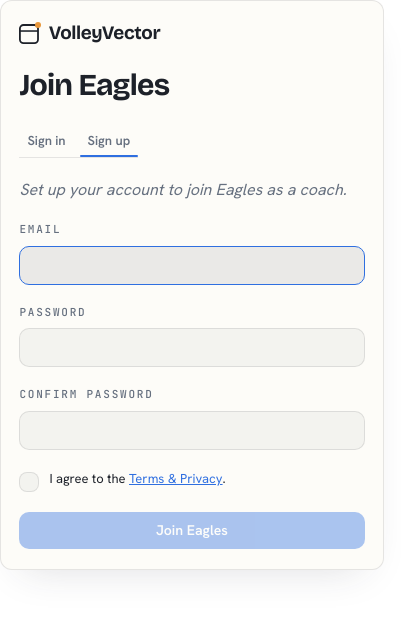
Test: InviteAccept, account-creation password validation › a mismatched confirmation is blocked client-side
Type "new@eagles.test" into the field labelled "Email" at (192, 265), box [19, 246, 365, 285]
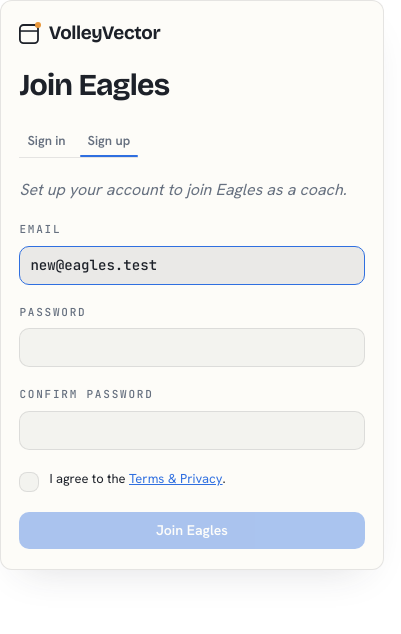
Type "longenough1" into the password field labelled "Password" at (192, 348), box [19, 328, 365, 367]
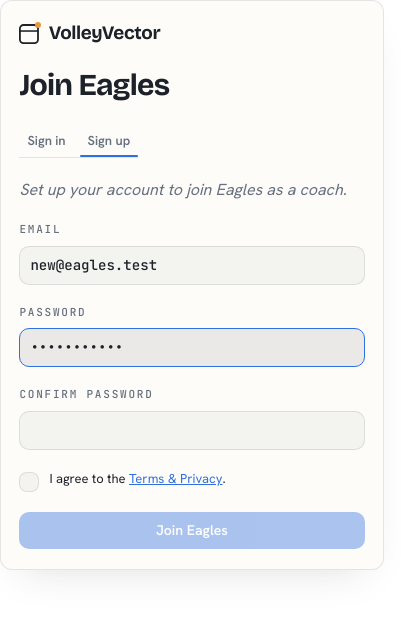
Type "longenough2" into the password field labelled "Confirm password" at (192, 430), box [19, 411, 365, 450]
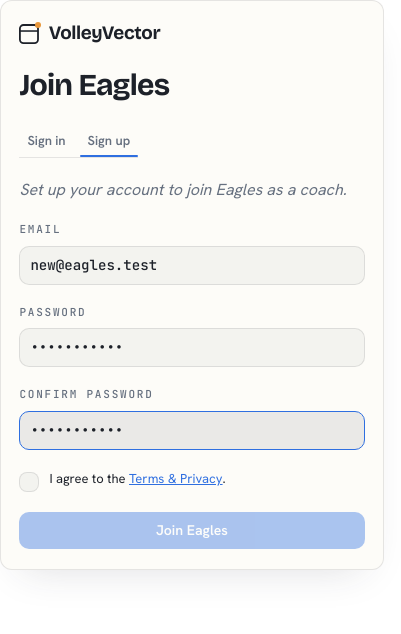
Click the checkbox named "Terms & Privacy" at (29, 482), box [19, 472, 39, 492]
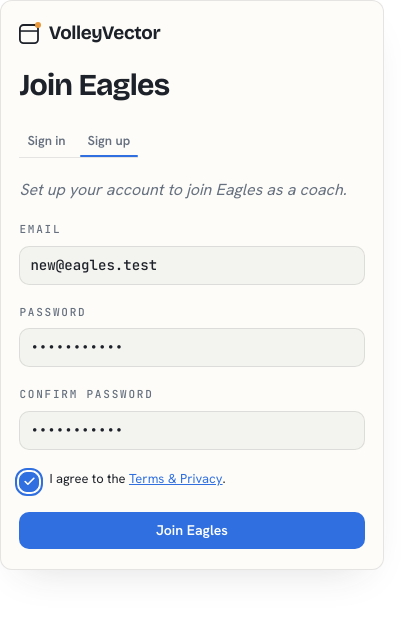
Click the button "Join Eagles" at (192, 530), box [19, 512, 365, 549]
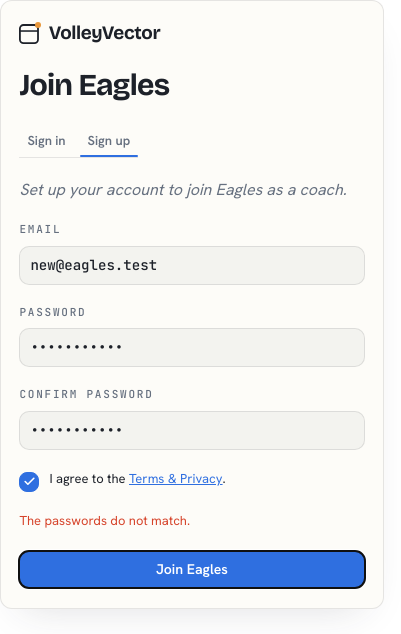
Expected: the text "The passwords do not match." is shown, [19, 512, 190, 529]
